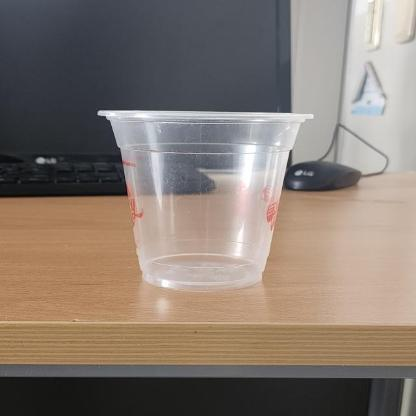Plastic Cup: (95, 108, 312, 292)
